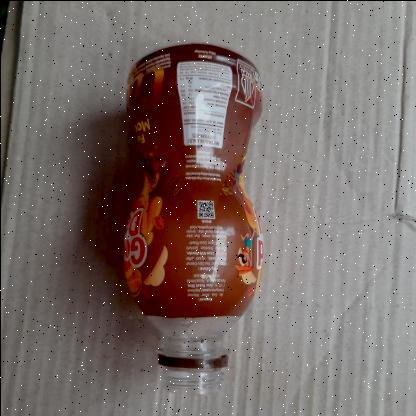Plastic Bottle: (119, 42, 265, 392)
